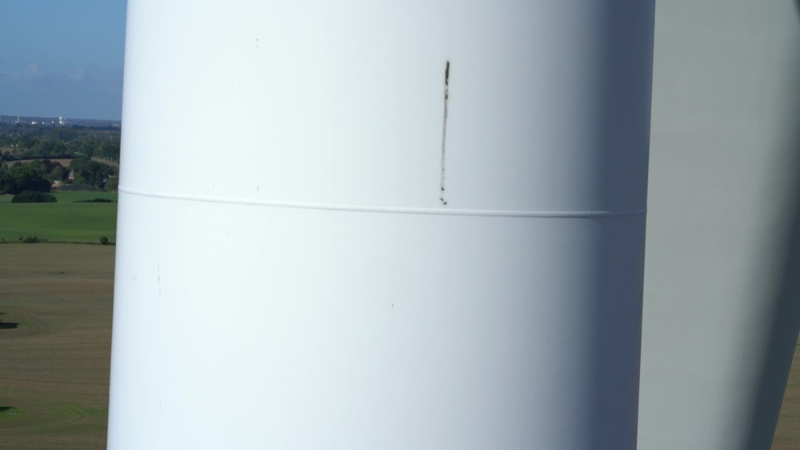weldseam: (115, 179, 648, 232)
